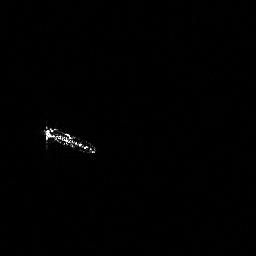ship: (40, 122, 97, 157)
